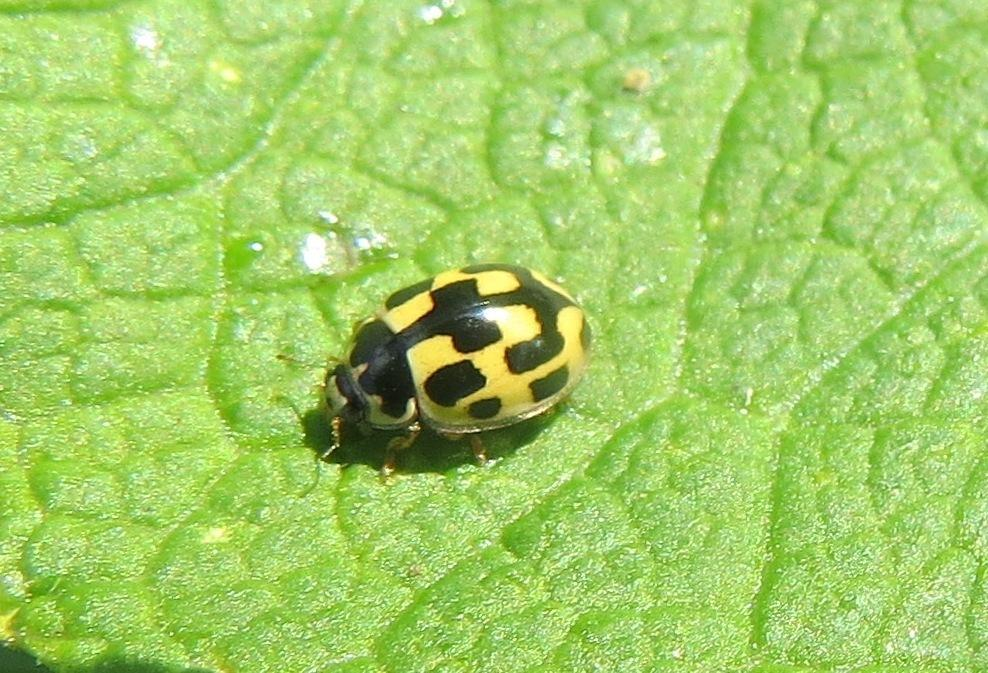ladybug: (277, 259, 599, 489)
